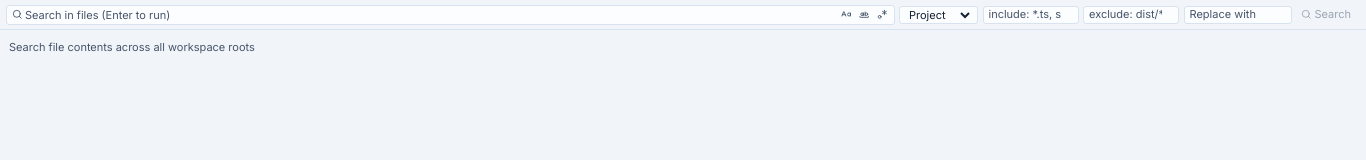
Test: FindInFilesPanel › reports truncation and backend errors
In the search field named "Search query": (430, 14) [25,6,836,24], type "needle"
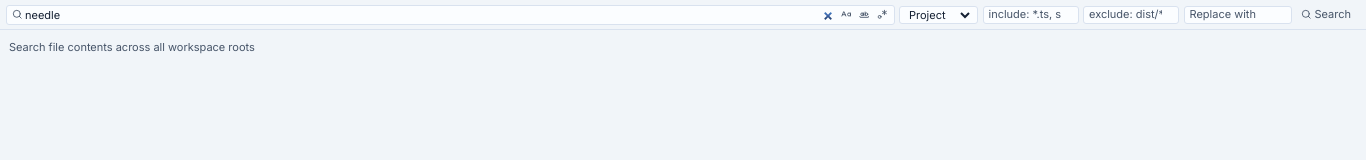
Press Enter in the search field named "Search query", box [25,6,836,24]
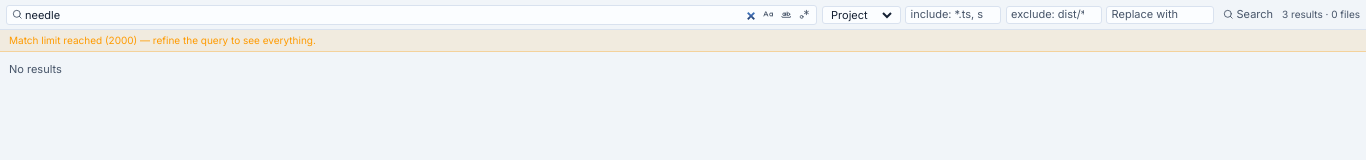
Expected: the text "Match limit reached" is shown, [9,34,316,46]
Replace the text in the search field named "Search query" with "other": (391, 14) [25,6,758,24]
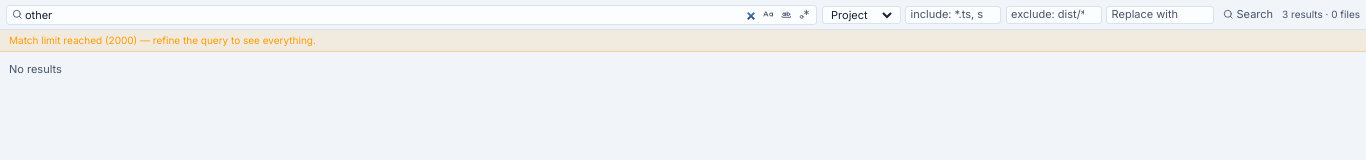
Press Enter in the search field named "Search query", box [25,6,758,24]
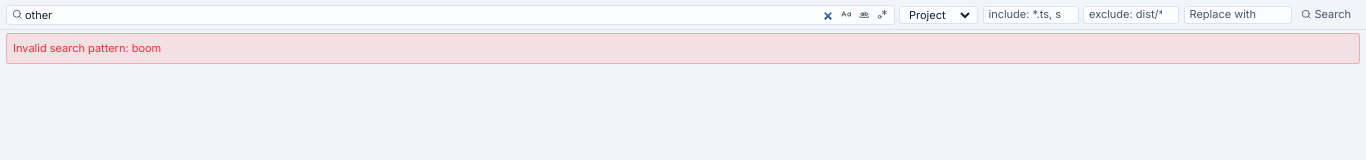
Expected: the text "Invalid search pattern: boom" is shown, [6,33,1360,64]
